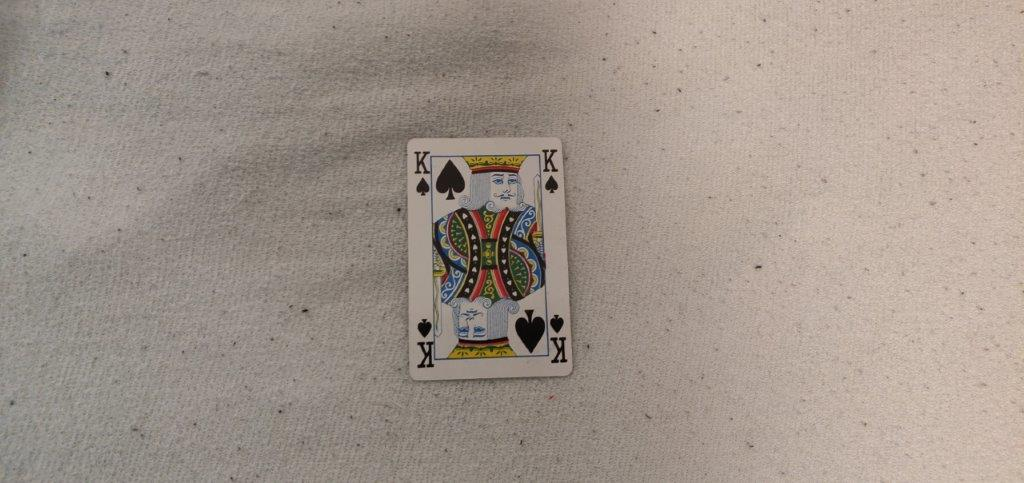KS: (540, 146, 563, 195), (410, 148, 433, 196)
